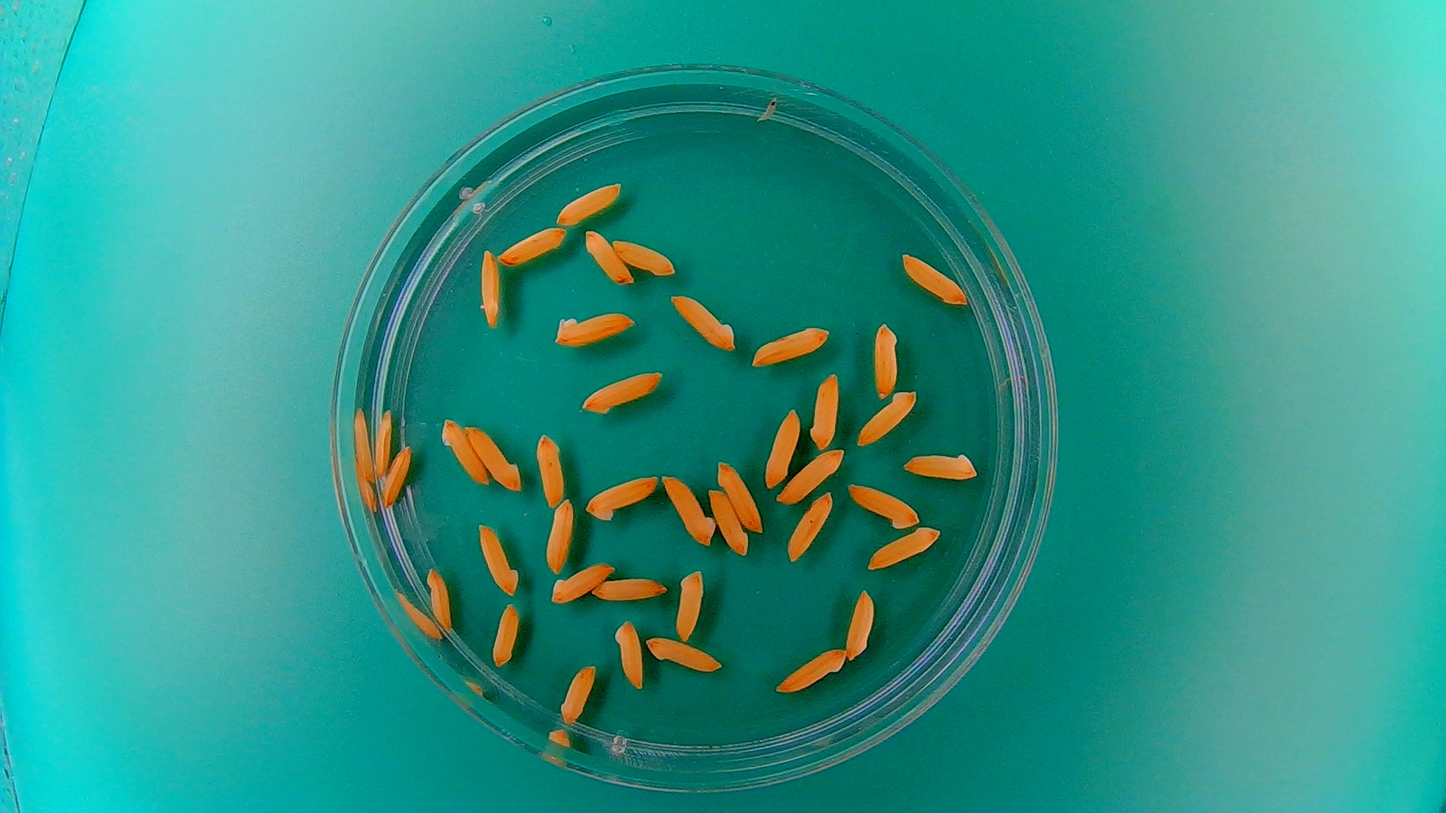no: (661, 471, 715, 548), (668, 291, 737, 351), (465, 420, 522, 492), (438, 416, 493, 489), (583, 470, 660, 522), (777, 446, 846, 504), (579, 368, 664, 415), (899, 251, 969, 306), (865, 524, 943, 571), (855, 390, 917, 448), (773, 645, 847, 693), (847, 480, 921, 528), (786, 489, 834, 562), (750, 325, 831, 368), (551, 309, 638, 349), (761, 404, 801, 489), (477, 519, 520, 598), (715, 458, 762, 530), (548, 559, 615, 607), (555, 181, 624, 227), (706, 486, 749, 557), (498, 224, 568, 266), (645, 635, 722, 673), (584, 228, 633, 285), (808, 370, 841, 450), (545, 493, 578, 573), (611, 238, 678, 277), (534, 431, 566, 510), (558, 662, 598, 725), (378, 440, 413, 510), (612, 617, 645, 691), (902, 449, 978, 481), (844, 587, 876, 662), (675, 565, 706, 641), (871, 321, 899, 399), (476, 245, 501, 328), (593, 574, 669, 601), (423, 566, 454, 631), (490, 601, 520, 668), (372, 408, 394, 480)
